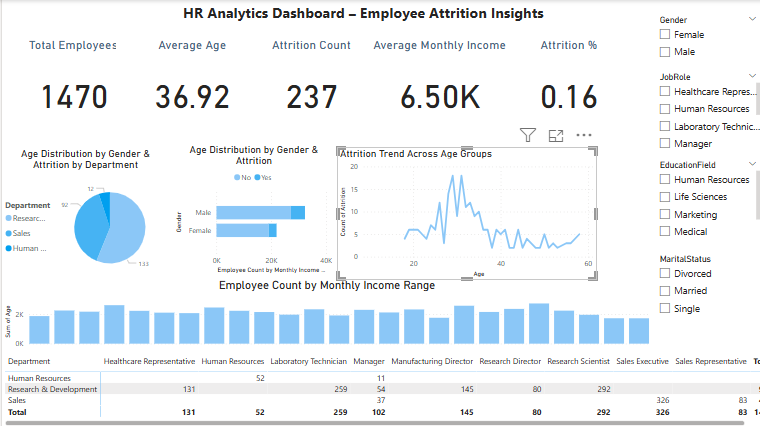

The dashboard page shown, as its layout file describes it:
{"tool":"powerbi","page":{"name":"Page 1","canvas":[1280,720],"ordinal":0},"visuals":[{"type":"card","title":"Total Employees","fields":{"Values":["EmployeeData.Total Employees"]},"box":[0,64,240,160],"z":0},{"type":"card","title":"Attrition Count","fields":{"Values":["EmployeeData.Attrition Count"]},"box":[400,64,240,160],"z":1000},{"type":"card","title":"Attrition %","fields":{"Values":["EmployeeData.Attrition %"]},"box":[816,64,272,160],"z":2000},{"type":"card","title":"Average Age","fields":{"Values":["EmployeeData.Average Age"]},"box":[192,64,256,160],"z":3000},{"type":"card","title":"Average Monthly Income","fields":{"Values":["EmployeeData.Average Monthly Income"]},"box":[592,64,288,160],"z":4000},{"type":"pieChart","fields":{"Category":["EmployeeData.Department"],"Y":["CountNonNull(EmployeeData.Attrition)"]},"box":[0,246.9,280.5,233.5],"z":5000},{"type":"barChart","title":"Age Distribution by Gender & Attrition","fields":{"Series":["EmployeeData.Attrition"],"Y":["Sum(EmployeeData.Age)"],"Category":["EmployeeData.Gender"]},"box":[288,240,272,224],"z":6000},{"type":"pivotTable","fields":{"Rows":["EmployeeData.Department"],"Columns":["EmployeeData.JobRole"],"Values":["CountNonNull(EmployeeData.Attrition)"]},"box":[0,591.3,1280,129.3],"z":7000},{"type":"lineChart","title":"Attrition Trend Across Age Groups","fields":{"Y":["CountNonNull(EmployeeData.Attrition)"],"Category":["EmployeeData.Age"]},"box":[562.7,246.9,436.7,223.4],"z":8000},{"type":"slicer","fields":{"Values":["EmployeeData.Gender"]},"box":[1091.9,20.2,188.1,95.7],"z":9000},{"type":"slicer","fields":{"Values":["EmployeeData.JobRole"]},"box":[1091.9,115.9,188.1,147.8],"z":10000},{"type":"slicer","fields":{"Values":["EmployeeData.EducationField"]},"box":[1091.9,263.7,188.1,147.8],"z":11000},{"type":"slicer","fields":{"Values":["EmployeeData.MaritalStatus"]},"box":[1091.9,421.6,188.1,132.7],"z":12000},{"type":"clusteredColumnChart","title":"Employee Count by Monthly Income Range","fields":{"Category":["EmployeeData.MonthlyRate (bins)"],"Y":["Sum(EmployeeData.Age)"]},"box":[0,467,1091.9,124.3],"z":13000},{"type":"textbox","box":[299,0,631.6,68.9],"z":14000}]}

Visuals, with their boxes in screenshot pixels (x1, y1, x2, y2), scaled from the page's 1280x720 canvas onto the 760x426 screenshot:
"Total Employees" card: (0, 38, 142, 133)
"Attrition Count" card: (238, 38, 380, 133)
"Attrition %" card: (484, 38, 646, 133)
"Average Age" card: (114, 38, 266, 133)
"Average Monthly Income" card: (352, 38, 522, 133)
pieChart - EmployeeData.Department x CountNonNull(EmployeeData.Attrition): (0, 146, 167, 284)
"Age Distribution by Gender & Attrition" barChart: (171, 142, 332, 275)
pivotTable - EmployeeData.Department x EmployeeData.JobRole: (0, 350, 759, 425)
"Attrition Trend Across Age Groups" lineChart: (334, 146, 593, 278)
slicer - EmployeeData.Gender: (648, 12, 759, 69)
slicer - EmployeeData.JobRole: (648, 69, 759, 156)
slicer - EmployeeData.EducationField: (648, 156, 759, 243)
slicer - EmployeeData.MaritalStatus: (648, 249, 759, 328)
"Employee Count by Monthly Income Range" clusteredColumnChart: (0, 276, 648, 350)
textbox: (178, 0, 553, 41)
